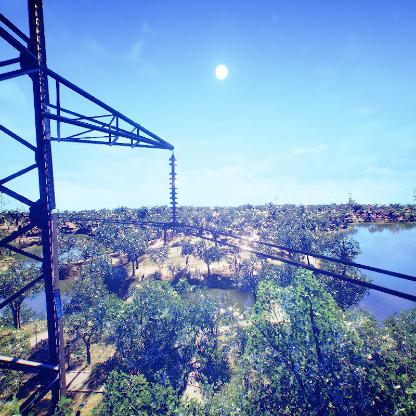insulator: (167, 153, 180, 222)
